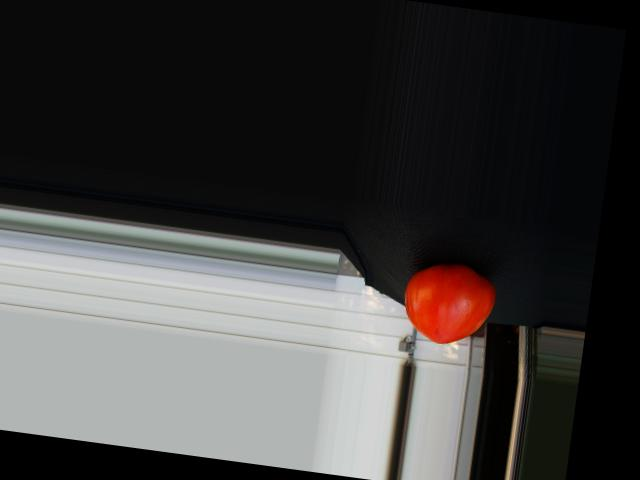tomato: (398, 257, 498, 350)
